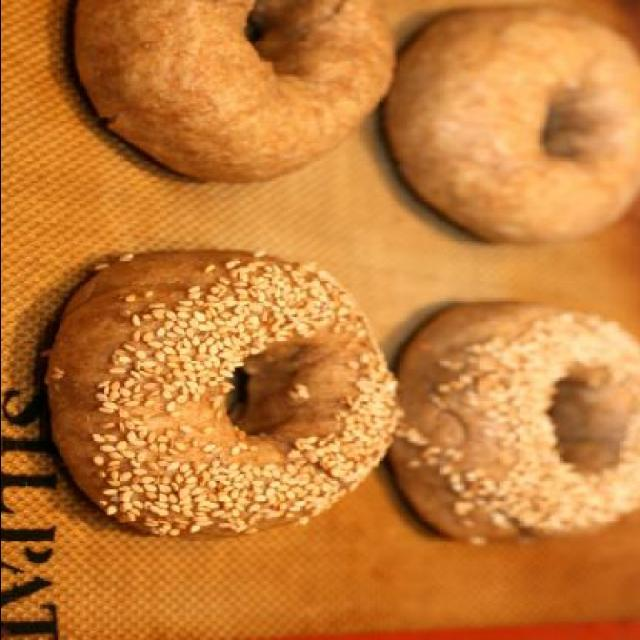Bagel: (46, 248, 400, 538), (389, 299, 640, 547), (383, 7, 640, 245), (74, 0, 400, 186)
